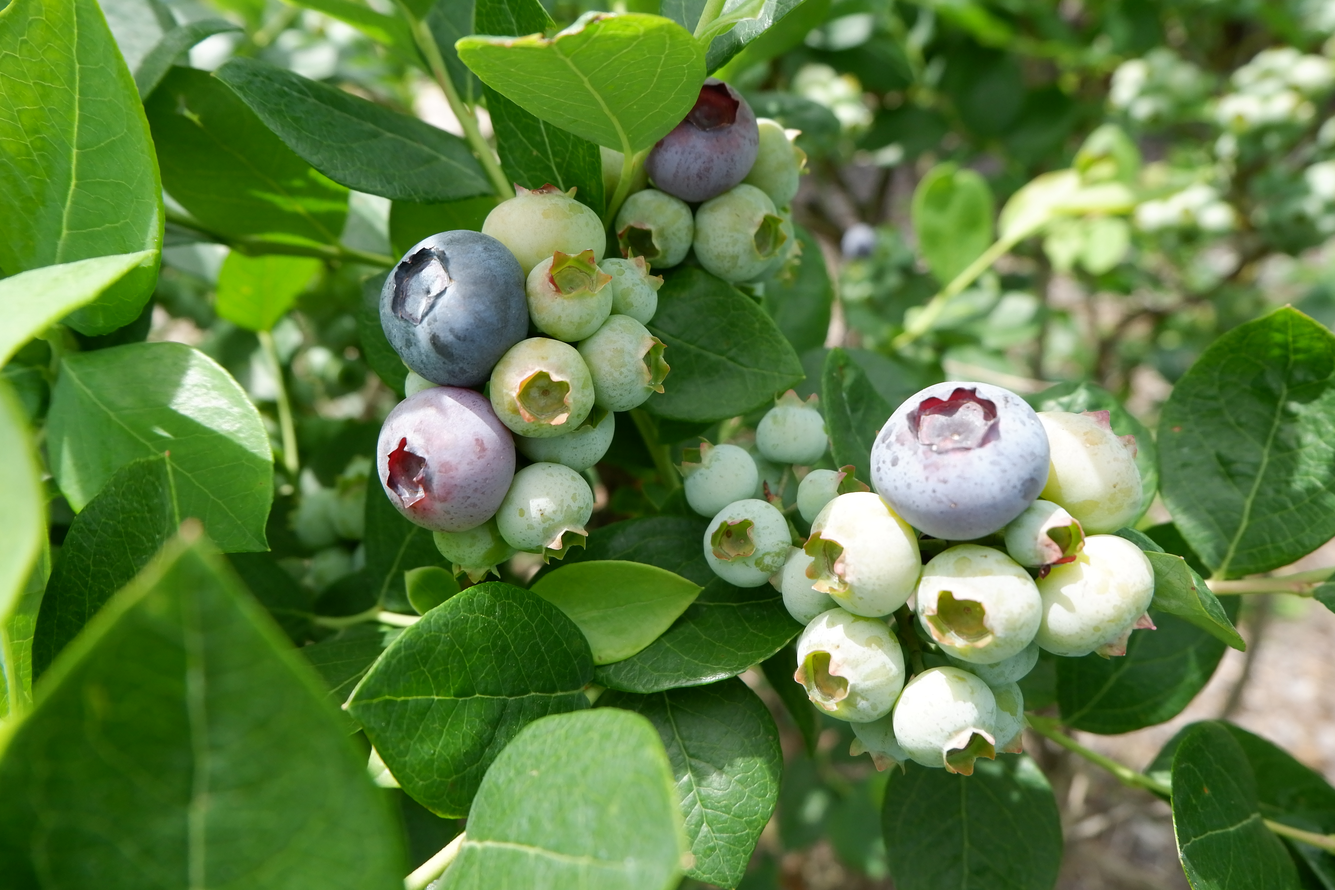Immature: (377, 388, 513, 529), (918, 548, 1041, 661), (1039, 539, 1153, 654), (810, 494, 920, 613), (1044, 413, 1148, 530), (799, 610, 904, 722), (896, 669, 993, 773), (486, 185, 601, 272), (490, 339, 592, 435), (696, 187, 784, 279), (580, 318, 666, 409), (500, 466, 591, 551), (705, 502, 793, 585), (528, 253, 611, 339), (519, 408, 613, 470), (618, 191, 692, 267), (684, 443, 757, 516), (758, 393, 827, 464), (1006, 502, 1080, 567), (749, 120, 802, 206), (780, 546, 839, 621), (603, 258, 660, 323), (436, 519, 509, 569), (799, 468, 862, 524), (852, 711, 909, 771), (967, 641, 1037, 681), (994, 684, 1033, 755), (406, 372, 447, 397)
Mature: (875, 387, 1051, 539), (383, 234, 524, 381), (649, 82, 758, 199)
